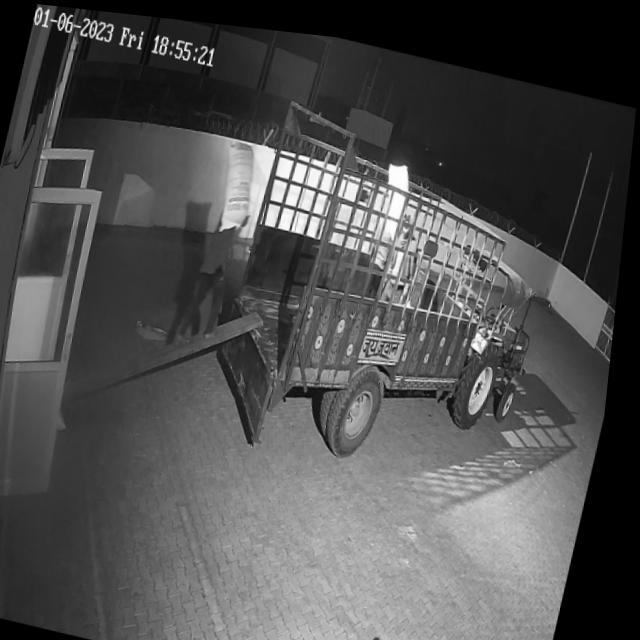sack: (213, 132, 266, 233)
